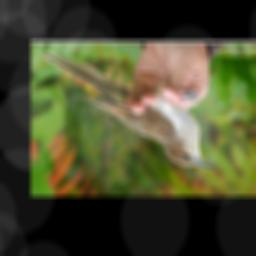Cuckoo: (37, 53, 215, 171)
